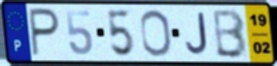5: (105, 8, 136, 58), (64, 10, 94, 57)
B: (212, 7, 249, 60)
J: (184, 11, 210, 56)
O: (138, 8, 174, 58)
P: (27, 7, 62, 59)
